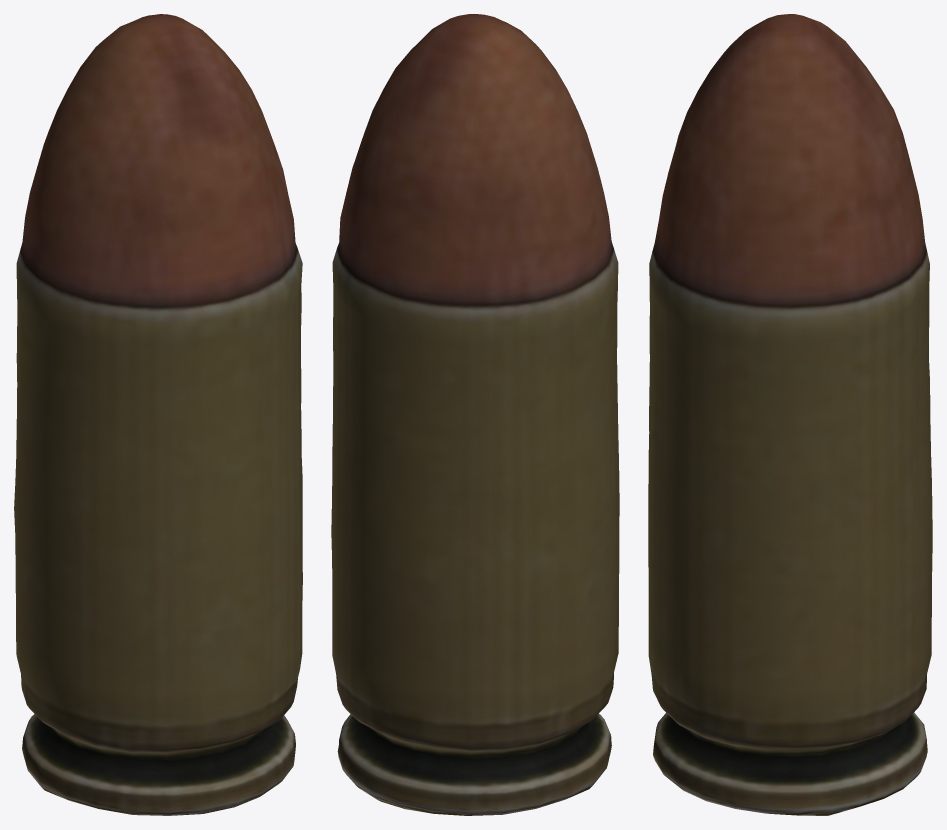
File: 9mm_Cartridge.glb
The picture shows the model from 3 angles, left to right: view 1: azimuth 30°, elevation 25°; view 2: azimuth 150°, elevation 25°; view 3: azimuth 270°, elevation 25°; orthographic projection.
Visible parts, largest first — view 1: mesh; view 2: mesh; view 3: mesh.
Part boxes in pixels (bbox=[...]): mesh: bbox=[14, 14, 302, 815]; mesh: bbox=[331, 14, 619, 815]; mesh: bbox=[648, 14, 932, 815].
Size of the model in its own units: 0.3478 by 0.9979 by 0.345.
Materials: 1 (1 with a texture image).
